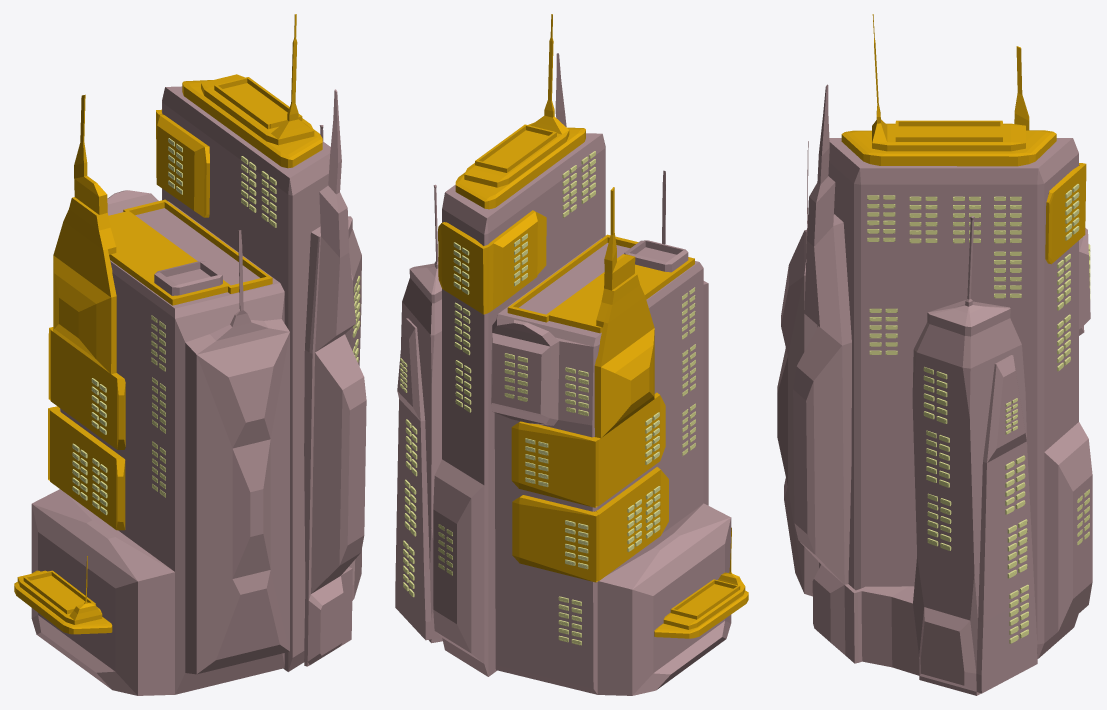
File: Batiment1.fbx
3 views of the same model, side by side, from view 1: azimuth 30°, elevation 25°; view 2: azimuth 150°, elevation 25°; view 3: azimuth 270°, elevation 25° (orthographic). The views are drawn at different scales.
Parts seen in each view (by area): view 1: base2, base alt2, base, colonne, Roof_Balcony.001, Mur.001, mur, Roof_base.001, Roof_top.001, Roof_Balcony.002, Roof_Balcony2, Roof_Balcony (+7 smaller); view 2: base2, base, colonne, base alt2, Mur.001, mur, Roof_Balcony.001, Roof_top.001, Roof_base.001, Roof_Balcony.002, Roof_Balcony, Roof_Balcony2 (+7 smaller); view 3: base alt2, base, base2, Roof_base.001, mur, Roof_top.001, Roof_Balcony.002, Light.028, Light.030, Light.023, Light.021, Light.029 (+11 smaller).
Boxes of the visible parts, left/top/right/bottom form: base2: left=31, top=190, right=289, bottom=695; base alt2: left=304, top=89, right=366, bottom=666; base: left=162, top=86, right=330, bottom=671; colonne: left=48, top=94, right=125, bottom=449; Roof_Balcony.001: left=108, top=199, right=272, bottom=305; Mur.001: left=48, top=406, right=125, bottom=530; mur: left=156, top=109, right=209, bottom=217; Roof_base.001: left=182, top=80, right=322, bottom=168; Roof_top.001: left=201, top=14, right=314, bottom=145; Roof_Balcony.002: left=214, top=77, right=302, bottom=129; Roof_Balcony2: left=154, top=261, right=222, bottom=295; Roof_Balcony: left=23, top=570, right=95, bottom=614; base2: left=491, top=170, right=731, bottom=695; base: left=433, top=133, right=605, bottom=676; colonne: left=511, top=187, right=665, bottom=507; base alt2: left=395, top=53, right=566, bottom=643; Mur.001: left=512, top=467, right=668, bottom=582; mur: left=438, top=210, right=546, bottom=314; Roof_Balcony.001: left=507, top=234, right=694, bottom=333; Roof_top.001: left=464, top=14, right=569, bottom=187; Roof_base.001: left=455, top=127, right=585, bottom=209; Roof_Balcony.002: left=475, top=124, right=556, bottom=172; Roof_Balcony: left=670, top=579, right=740, bottom=619; Roof_Balcony2: left=624, top=240, right=688, bottom=272; base alt2: left=793, top=84, right=1037, bottom=695; base: left=819, top=138, right=1092, bottom=658; base2: left=777, top=141, right=1090, bottom=596; Roof_base.001: left=841, top=130, right=1056, bottom=166; mur: left=1045, top=163, right=1086, bottom=264; Roof_top.001: left=872, top=14, right=1025, bottom=151; Roof_Balcony.002: left=895, top=120, right=1002, bottom=141; Light.028: left=923, top=367, right=947, bottom=423; Light.030: left=927, top=493, right=951, bottom=550; Light.023: left=869, top=308, right=897, bottom=354; Light.021: left=867, top=195, right=895, bottom=241; Light.029: left=926, top=430, right=949, bottom=487.
Size of the model in its own units: 331 by 598 by 271.
